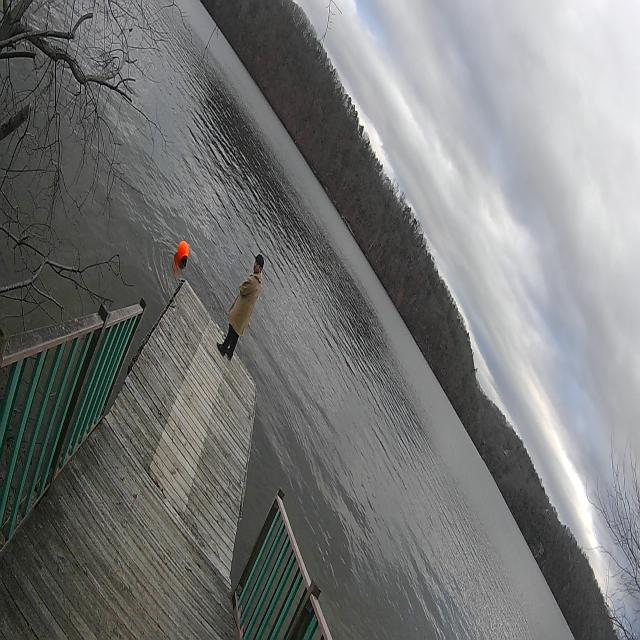Buoy: (175, 236, 191, 268)
